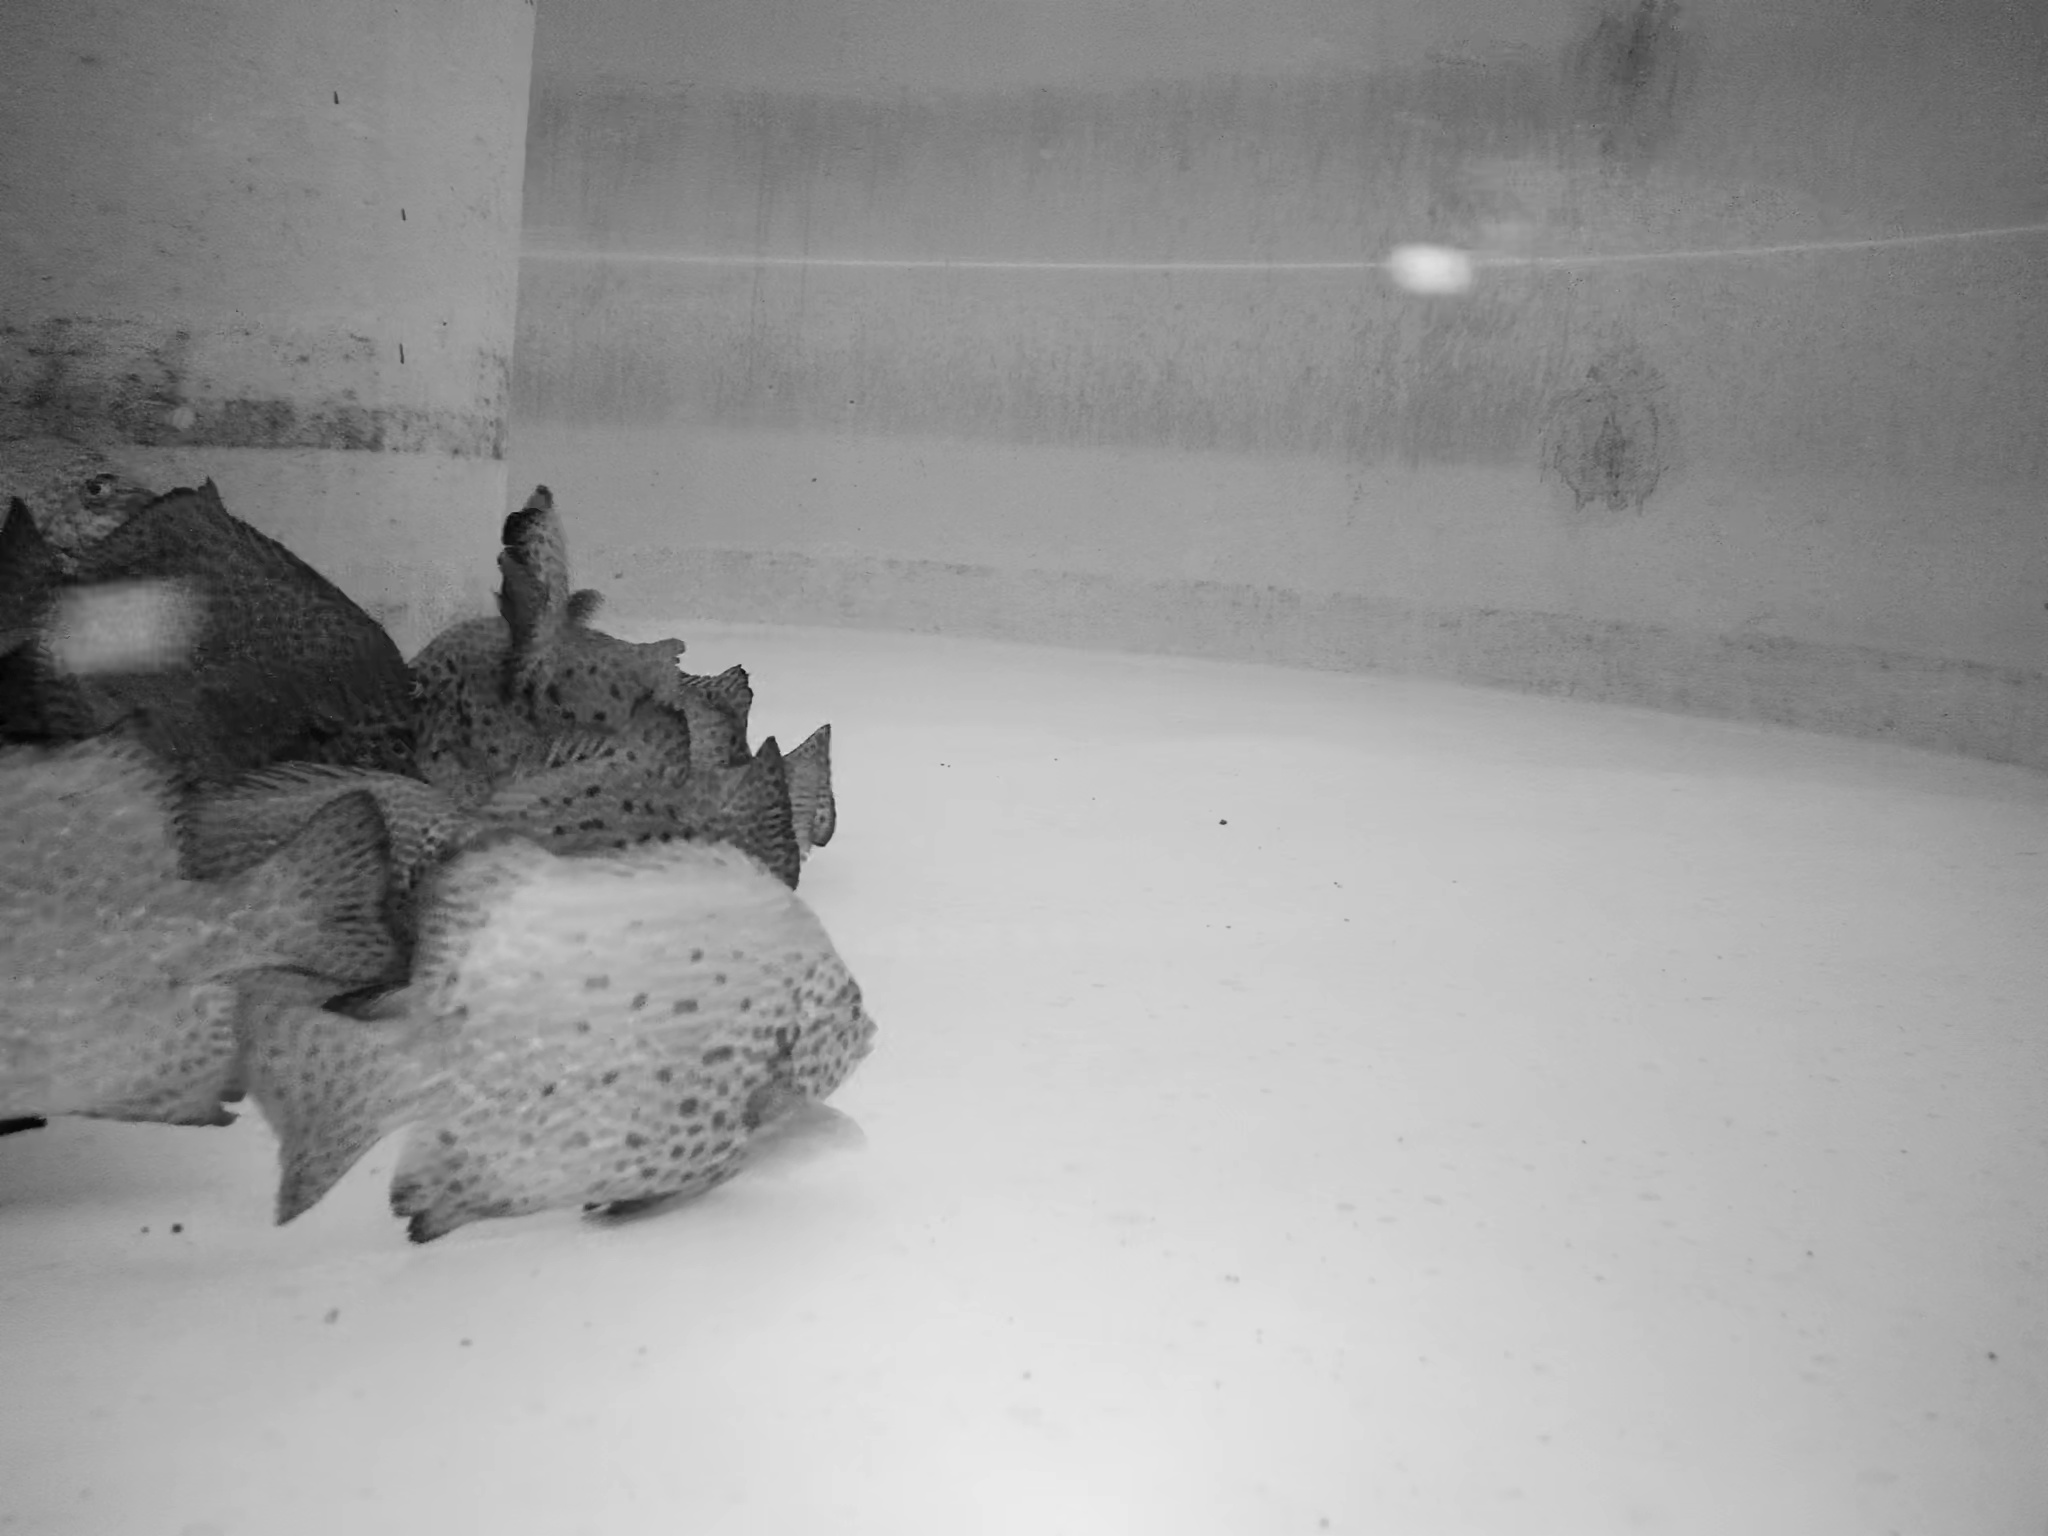fish: (231, 821, 879, 1217), (6, 724, 406, 1134), (3, 473, 411, 808), (405, 615, 698, 800), (529, 737, 816, 895), (464, 657, 760, 808), (543, 716, 850, 860), (500, 487, 584, 699)
